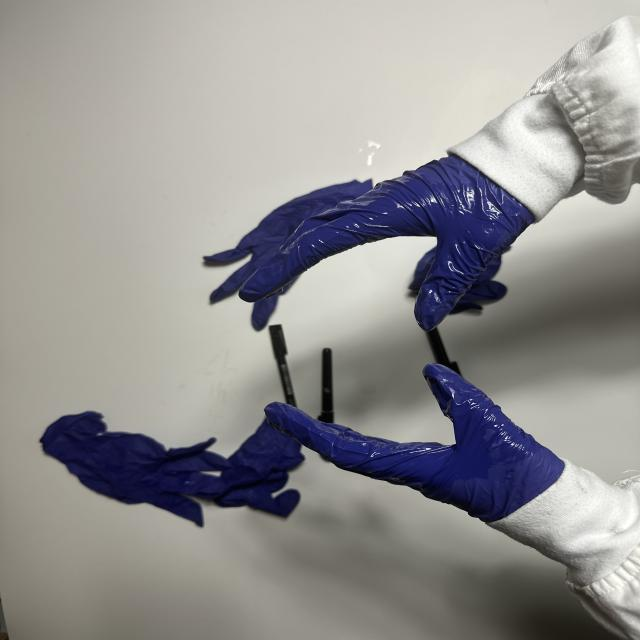gloves_contaminated: (239, 156, 534, 330), (265, 364, 564, 522)
